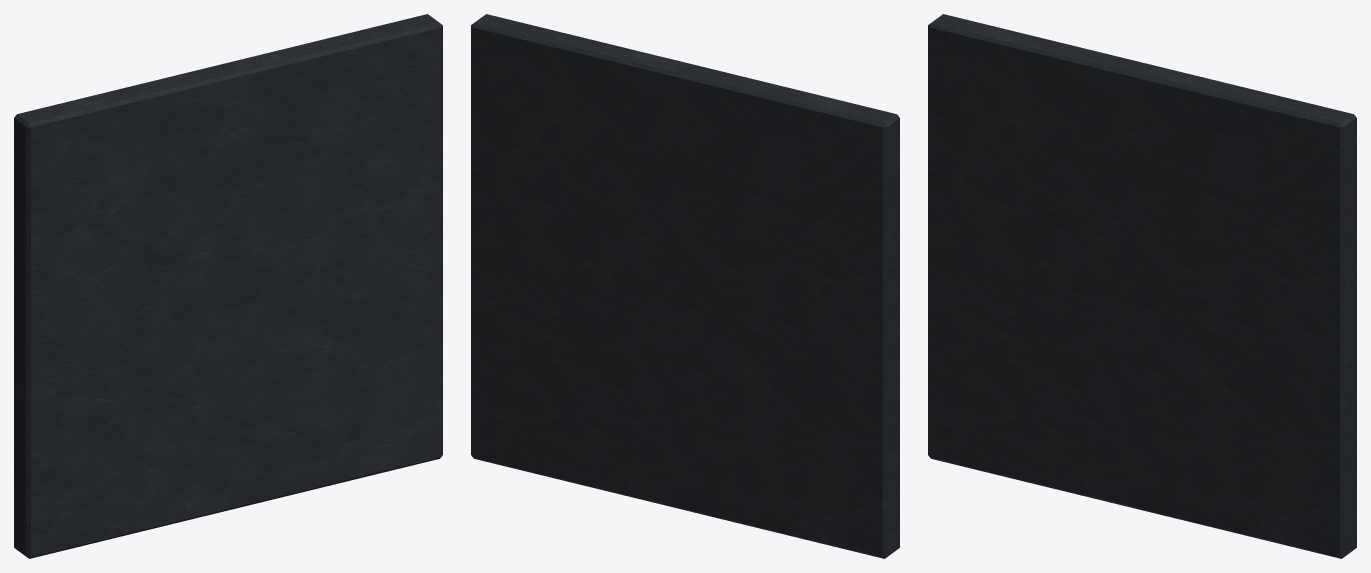
The model's file is train_rivet_plate.gltf.
3 views of the same model, side by side, from view 1: azimuth 30°, elevation 25°; view 2: azimuth 150°, elevation 25°; view 3: azimuth 330°, elevation 25° (orthographic).
Size of the model in its own units: 1 by 1 by 0.065.
2 materials, 2 textured.
